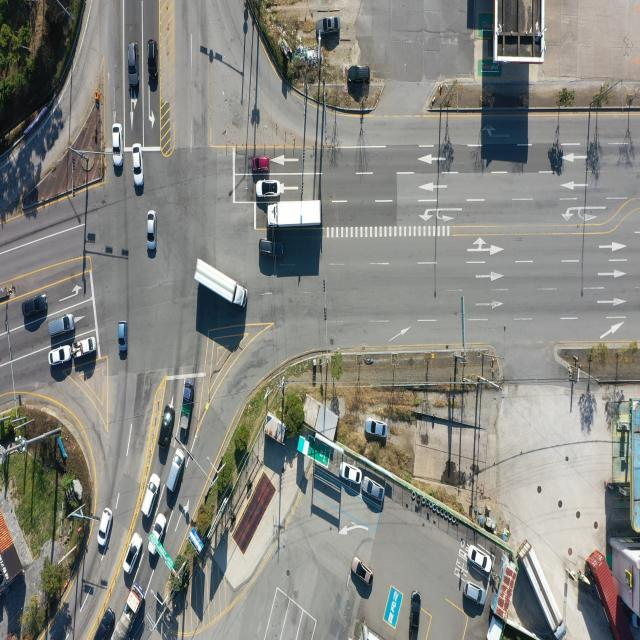car: (124, 534, 144, 575), (167, 448, 185, 493), (141, 474, 159, 518), (148, 510, 166, 554), (94, 607, 116, 640), (49, 316, 76, 340), (471, 547, 494, 575), (351, 558, 373, 586), (363, 478, 386, 504), (409, 587, 421, 636), (98, 507, 113, 546), (462, 581, 485, 606), (161, 409, 175, 449), (24, 297, 48, 318), (132, 144, 144, 186), (260, 239, 285, 259), (341, 461, 362, 484), (50, 345, 73, 366), (255, 179, 280, 198), (364, 418, 387, 438), (148, 42, 158, 88), (115, 123, 125, 167), (316, 17, 340, 34), (130, 42, 139, 86), (349, 65, 371, 83), (147, 211, 156, 251), (251, 158, 270, 173), (118, 320, 126, 354)
medium_truck: (521, 539, 567, 637), (195, 257, 248, 313), (109, 582, 145, 640), (267, 200, 321, 230)
small_truck: (180, 378, 193, 436), (74, 337, 96, 358)
